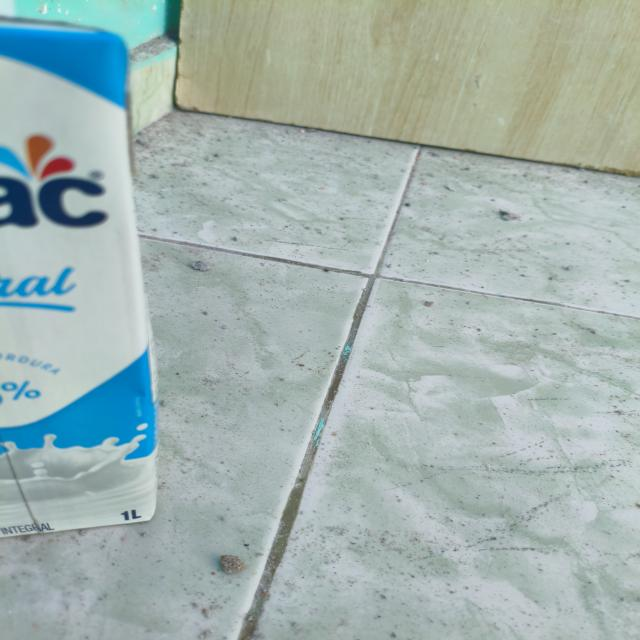Caixa de Leite: (0, 17, 160, 539)
